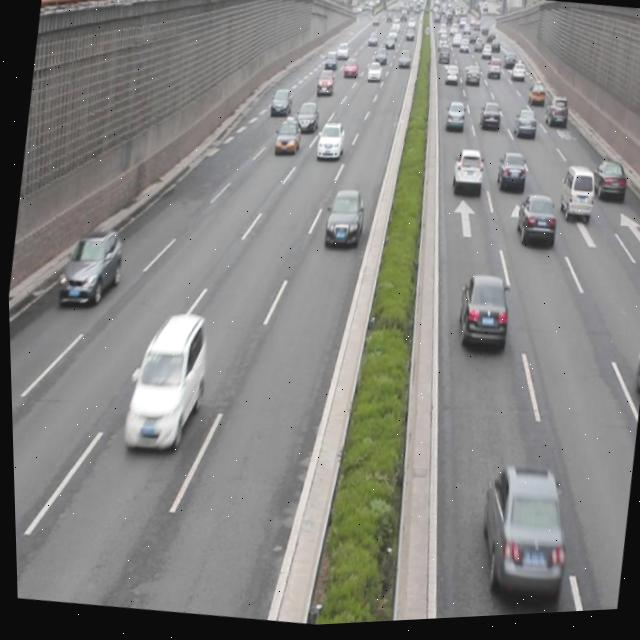car: (467, 462, 572, 610), (116, 307, 212, 459), (54, 221, 126, 313), (450, 274, 511, 359), (320, 189, 365, 256), (510, 196, 557, 255), (587, 162, 628, 211), (447, 149, 485, 201), (493, 154, 528, 201), (314, 122, 345, 167), (273, 117, 301, 159), (512, 110, 539, 144), (294, 101, 319, 136), (477, 105, 501, 140), (268, 88, 293, 121), (443, 102, 466, 137)
truck: (554, 167, 595, 230)
